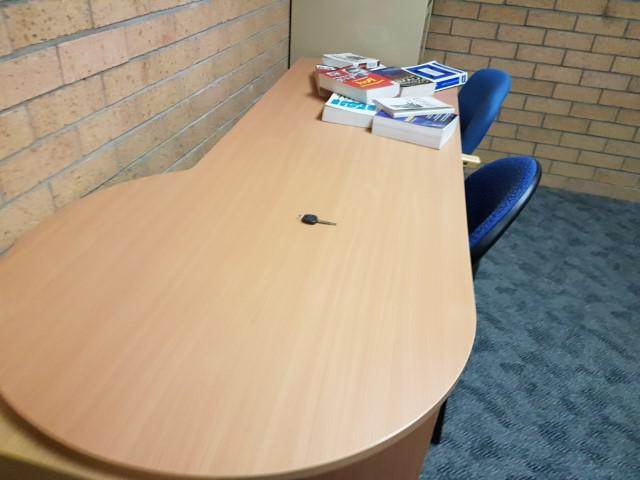key: (303, 214, 338, 226)
